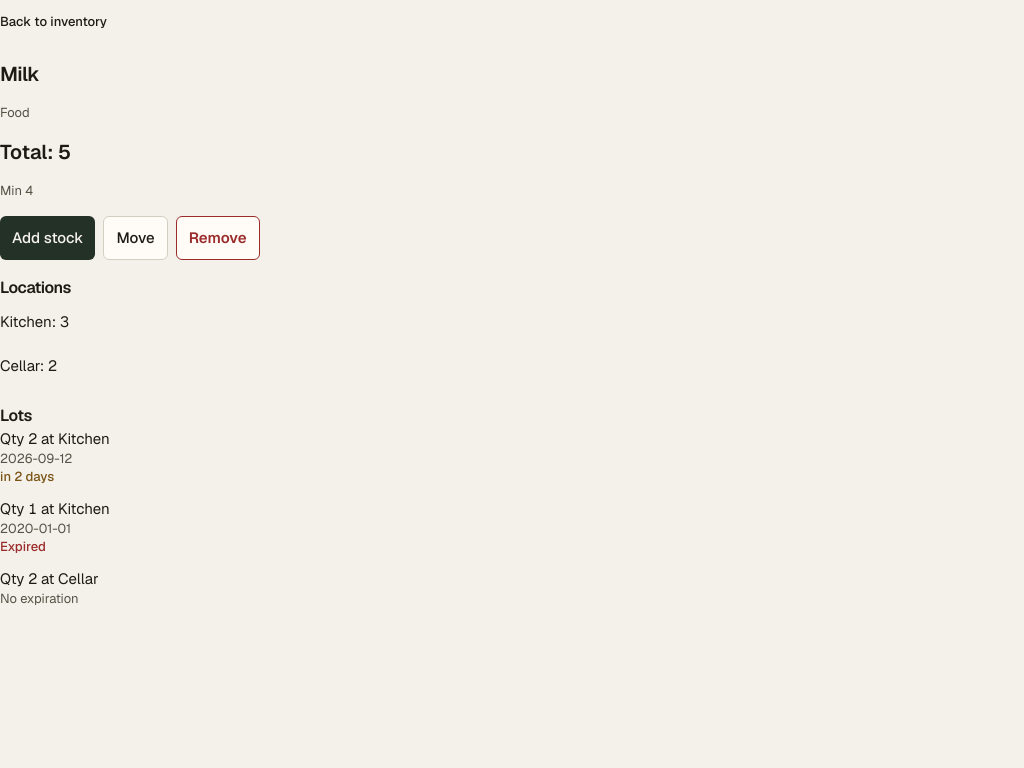
Test case: InventoryProductScreen › does not add stock when quantity is empty
Expected: the heading "Milk" is shown, 0,61 -> 39,87
Click the button "Add stock" at {"x": 48, "y": 238}, box 0,216 -> 95,260
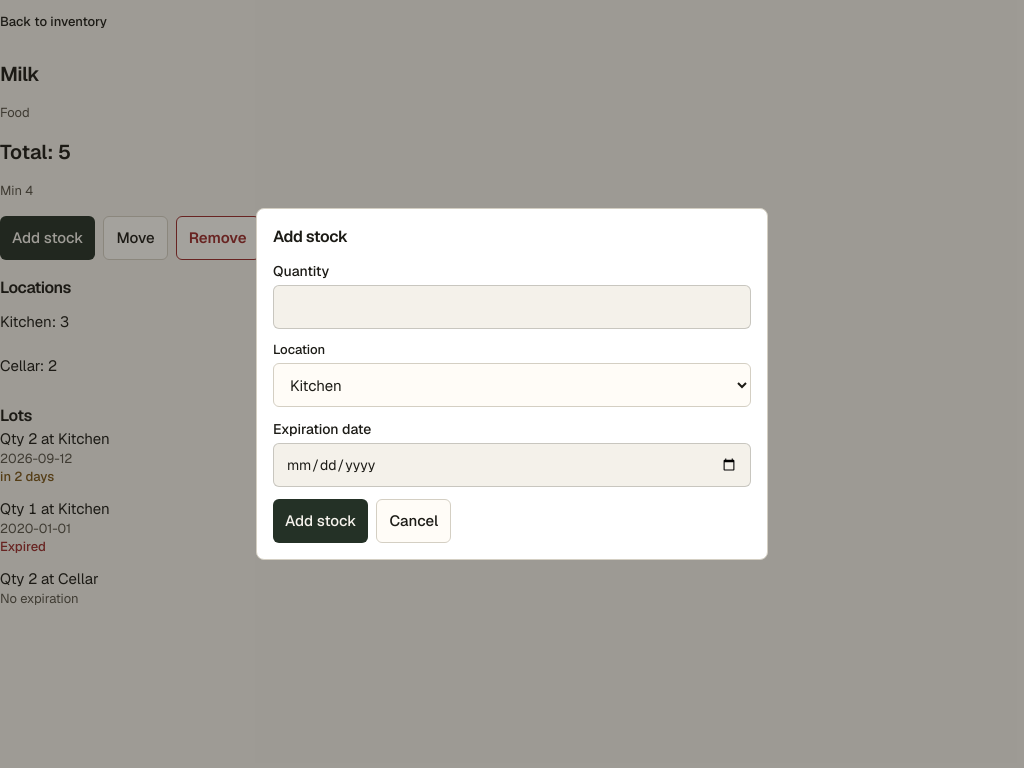
Submit the form "Add stock", box 273,261 -> 751,543
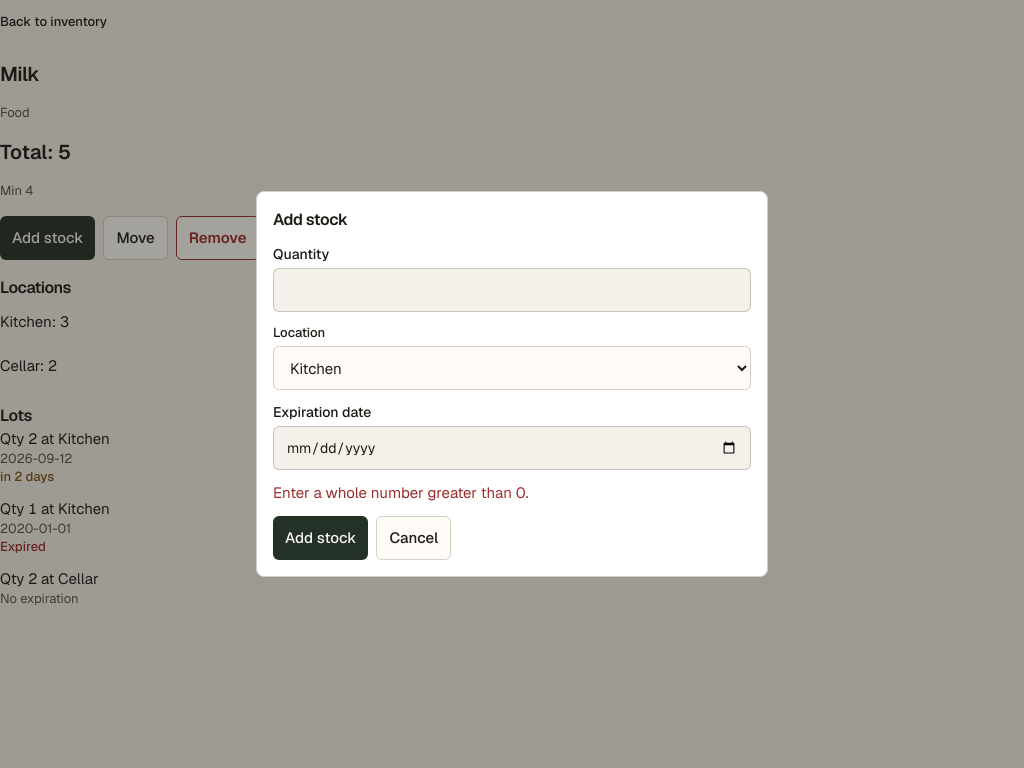
Now the text "Enter a whole number greater than 0." is shown, box 273,483 -> 529,502
